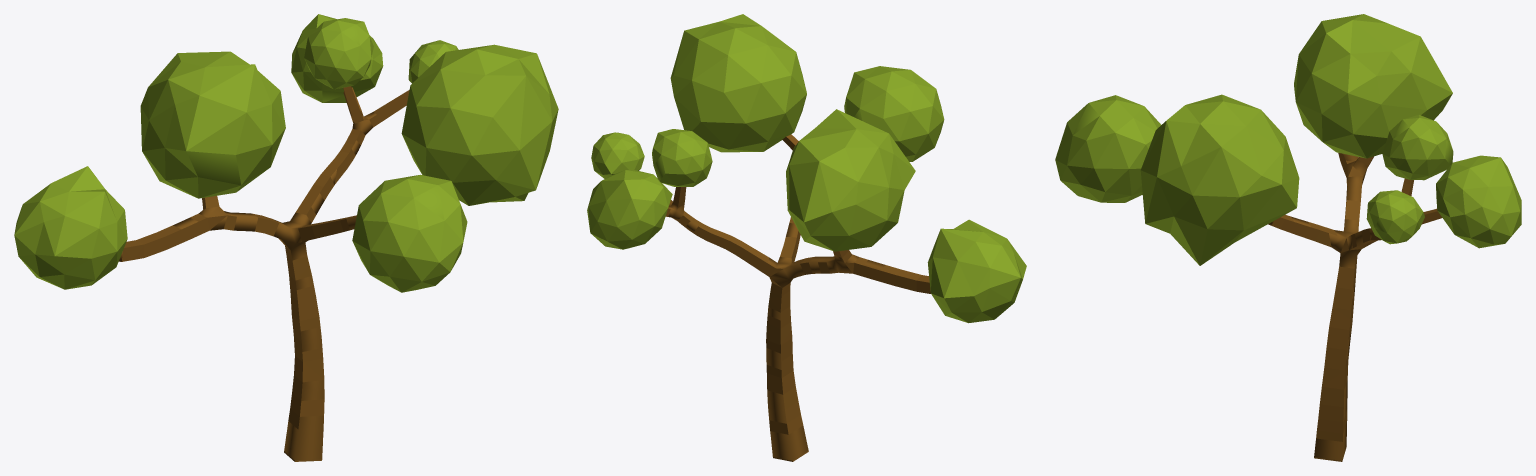
File: tree.dae
3 views of the same model, side by side, from view 1: azimuth 30°, elevation 25°; view 2: azimuth 150°, elevation 25°; view 3: azimuth 270°, elevation 25° (orthographic). The views are drawn at different scales.
Parts seen in each view (by area): view 1: Plane; view 2: Plane; view 3: Plane.
Boxes of the visible parts, x1=… form: Plane: x1=14, y1=14, x2=558, y2=461; Plane: x1=587, y1=14, x2=1026, y2=461; Plane: x1=1055, y1=14, x2=1521, y2=461.
Size of the model in its own units: 9.13 by 8.12 by 7.87.
